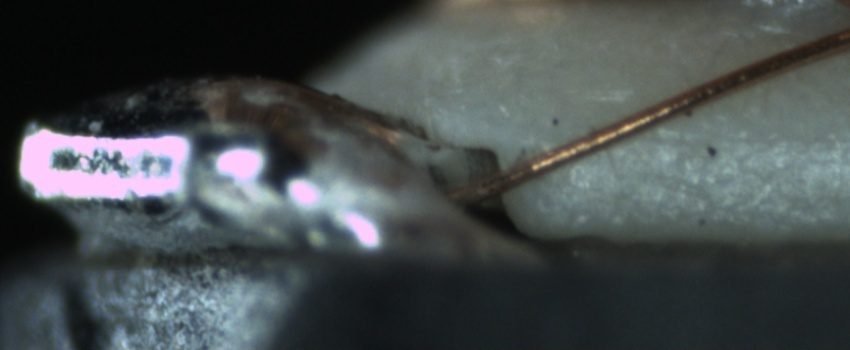DL: (622, 113, 848, 170)
